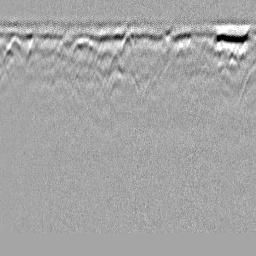cavity: (122, 29, 135, 54)
